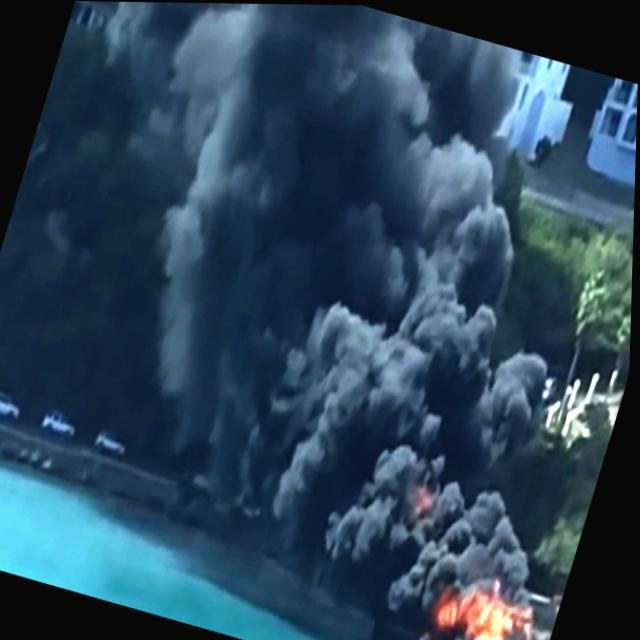smoke: (109, 1, 543, 408), (248, 161, 597, 550), (314, 411, 544, 607)
